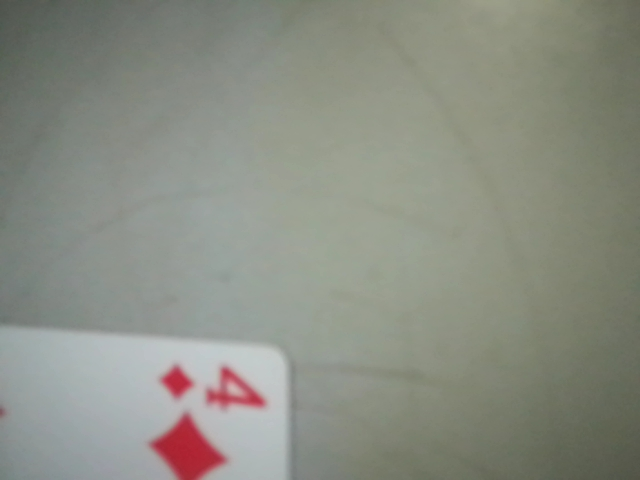fk 4: (140, 354, 282, 438)
